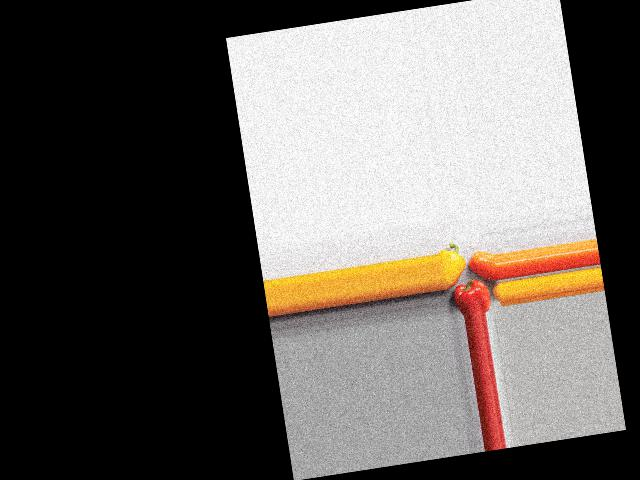bell_pepper: (449, 277, 492, 317)
